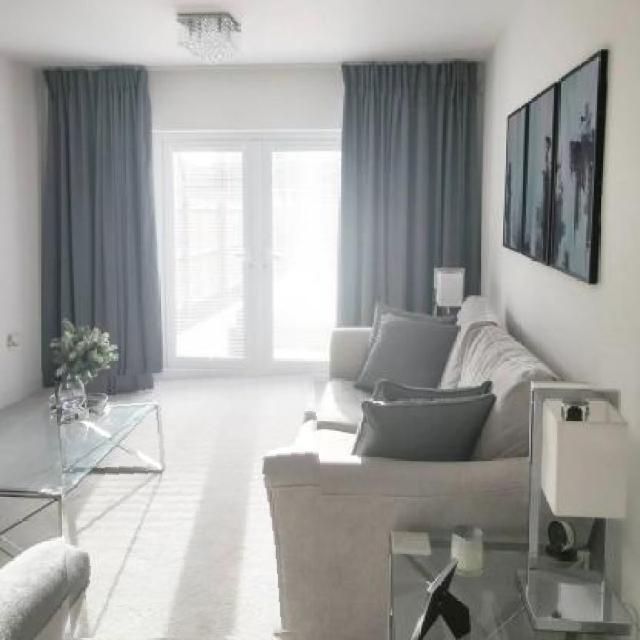floor: (63, 369, 313, 639)
